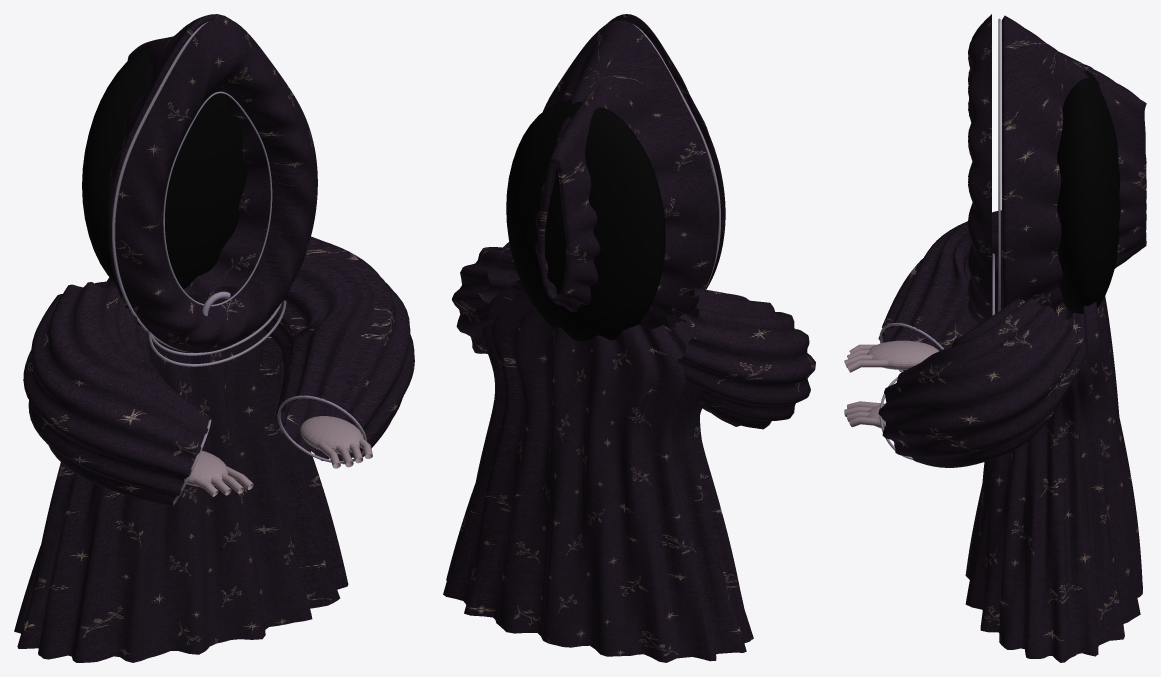
The model's file is witch.glb.
The picture shows the model from 3 angles, left to right: view 1: azimuth 30°, elevation 25°; view 2: azimuth 150°, elevation 25°; view 3: azimuth 270°, elevation 25°; orthographic projection. The views are drawn at different scales.
Parts seen in each view (by area): view 1: Robe, Layered hood drape, Draped sleeve, Draped sleeve.001, Hood shadow, Hood, Hand.001, Inner hood piping, Hood silver piping.001, Hand, Sleeve embroidery.001, Necklace.001; view 2: Robe, Hood, Hood shadow, Draped sleeve, Draped sleeve.001, Layered hood drape, Hood silver piping.001; view 3: Robe, Draped sleeve.001, Hood, Hood shadow, Draped sleeve, Layered hood drape, Hand, Hood silver piping.001.
Boxes of the visible parts, <box> form: Robe: <box>14,277,348,662</box>; Layered hood drape: <box>115,17,317,352</box>; Draped sleeve: <box>23,282,211,506</box>; Draped sleeve.001: <box>262,236,414,464</box>; Hood shadow: <box>82,44,247,289</box>; Hood: <box>108,14,270,352</box>; Hand.001: <box>300,416,363,453</box>; Inner hood piping: <box>163,91,272,306</box>; Hood silver piping.001: <box>112,21,208,352</box>; Hand: <box>184,450,228,486</box>; Sleeve embroidery.001: <box>277,395,366,463</box>; Necklace.001: <box>148,300,286,366</box>; Robe: <box>443,280,753,662</box>; Hood: <box>535,20,718,329</box>; Hood shadow: <box>506,99,665,341</box>; Draped sleeve: <box>665,288,815,429</box>; Draped sleeve.001: <box>452,242,519,353</box>; Layered hood drape: <box>606,14,725,289</box>; Hood silver piping.001: <box>633,24,720,289</box>; Robe: <box>965,296,1142,662</box>; Draped sleeve.001: <box>878,298,1087,467</box>; Hood: <box>1001,15,1146,309</box>; Hood shadow: <box>1057,64,1120,313</box>; Draped sleeve: <box>878,210,1001,370</box>; Layered hood drape: <box>968,14,991,323</box>; Hand: <box>866,340,939,369</box>; Hood silver piping.001: <box>998,18,1000,311</box>.
Bounding box in the file's own units: 2.39 × 3.85 × 1.84.
4 materials, 1 textured.
